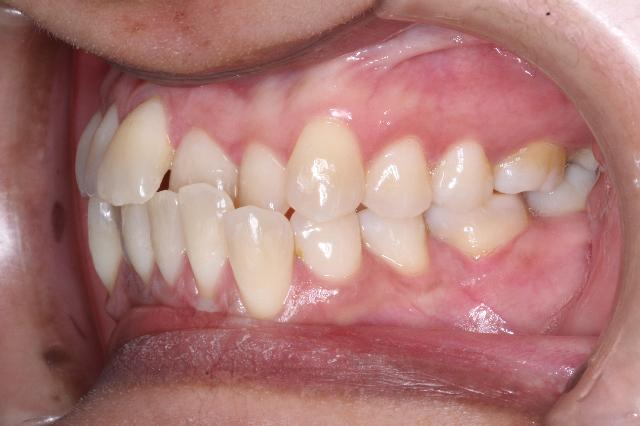canine class III 1/4: (226, 109, 368, 321)
molar class III 3/4: (424, 132, 566, 262)
